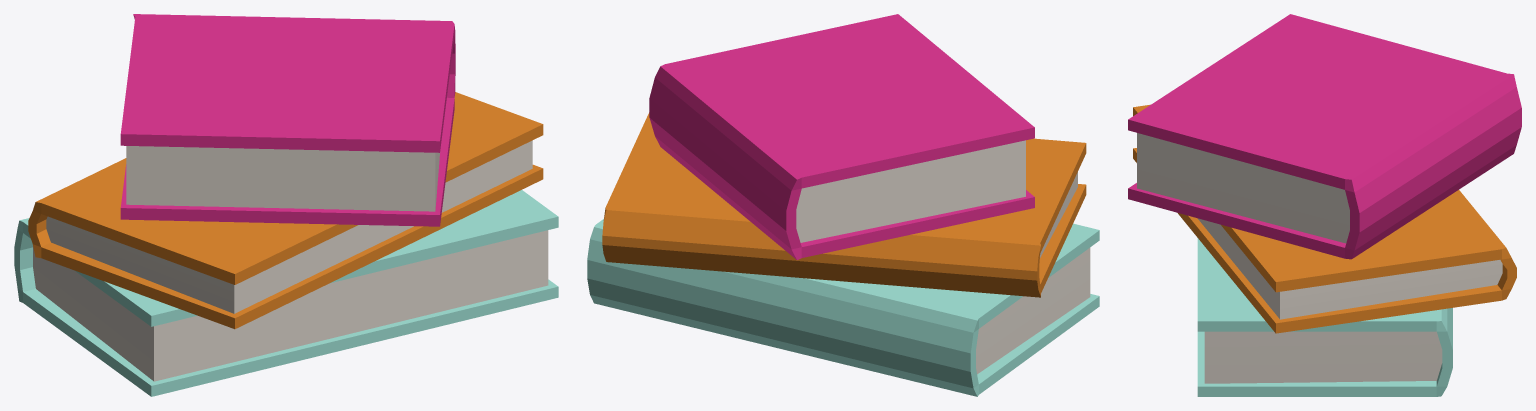
Rendered from SM_Books.fbx.
The picture shows the model from 3 angles, left to right: view 1: azimuth 30°, elevation 25°; view 2: azimuth 150°, elevation 25°; view 3: azimuth 270°, elevation 25°; orthographic projection. The views are drawn at different scales.
Visible parts, largest first — view 1: Books; view 2: Books; view 3: Books.
Boxes of the visible parts, <box> form: Books: <box>14,14,558,396</box>; Books: <box>587,14,1099,396</box>; Books: <box>1128,14,1521,396</box>.
Size of the model in its own units: 87.83 by 40.27 by 69.55.
